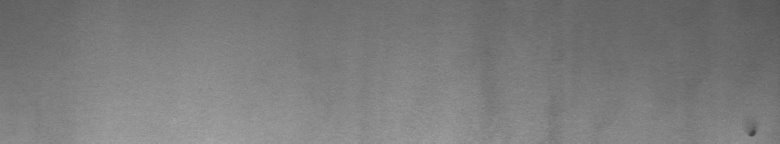fi: (741, 126, 763, 136)
